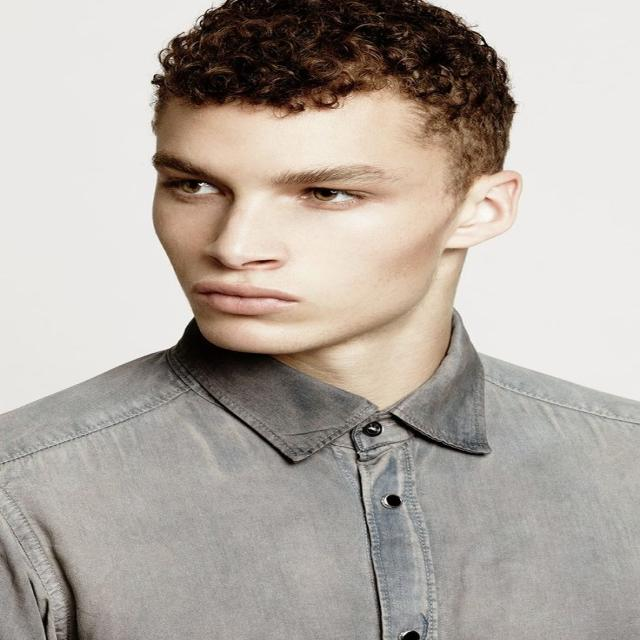front: (162, 128, 429, 333)
